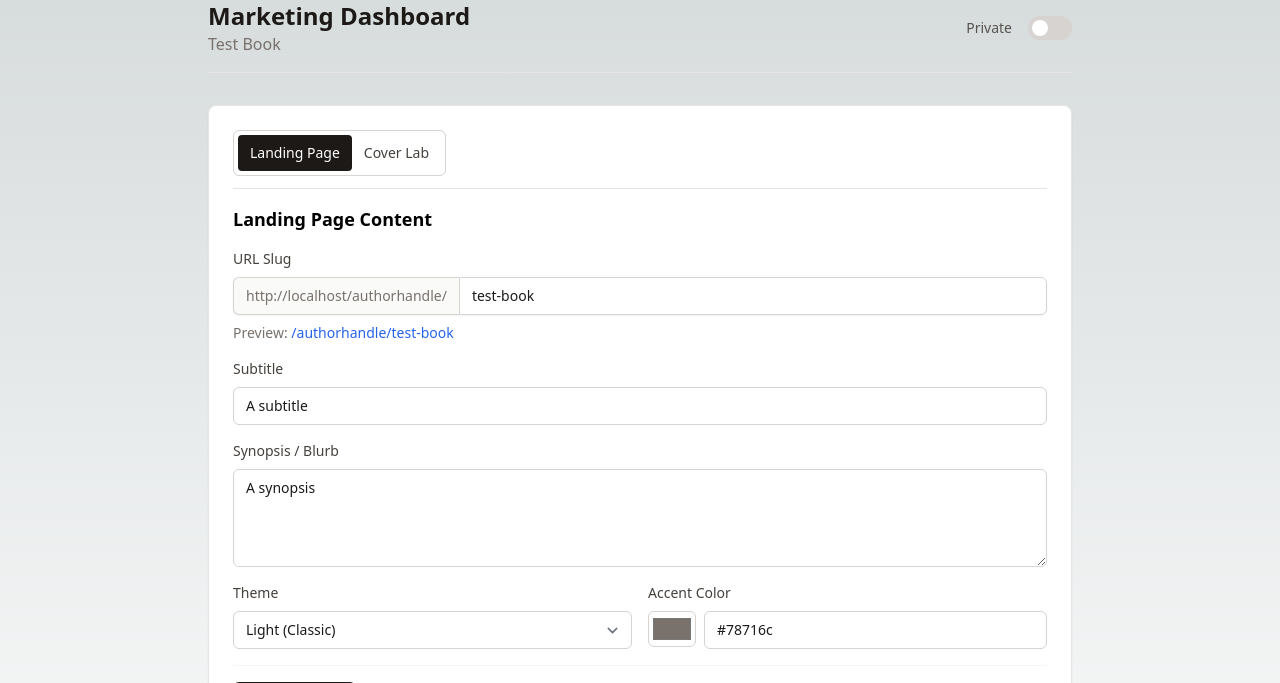
Test: MarketingDashboard › saves changes correctly
Update subtitle
Replace the text in the field with placeholder "A compelling subtitle for your landing page" below "Subtitle" with "New Subtitle": point(640, 406) 233,387 -> 1047,425
(page scrolled)
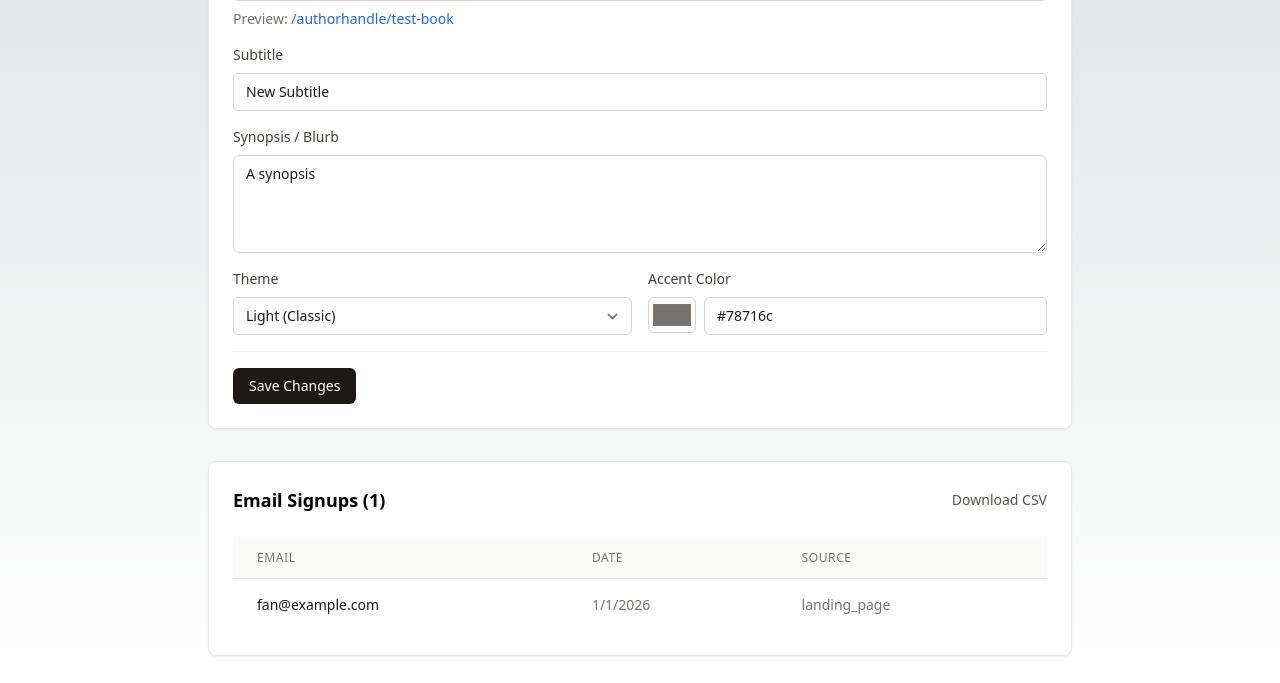
Click save
Click the button "Save Changes": point(295, 386) 233,368 -> 356,404
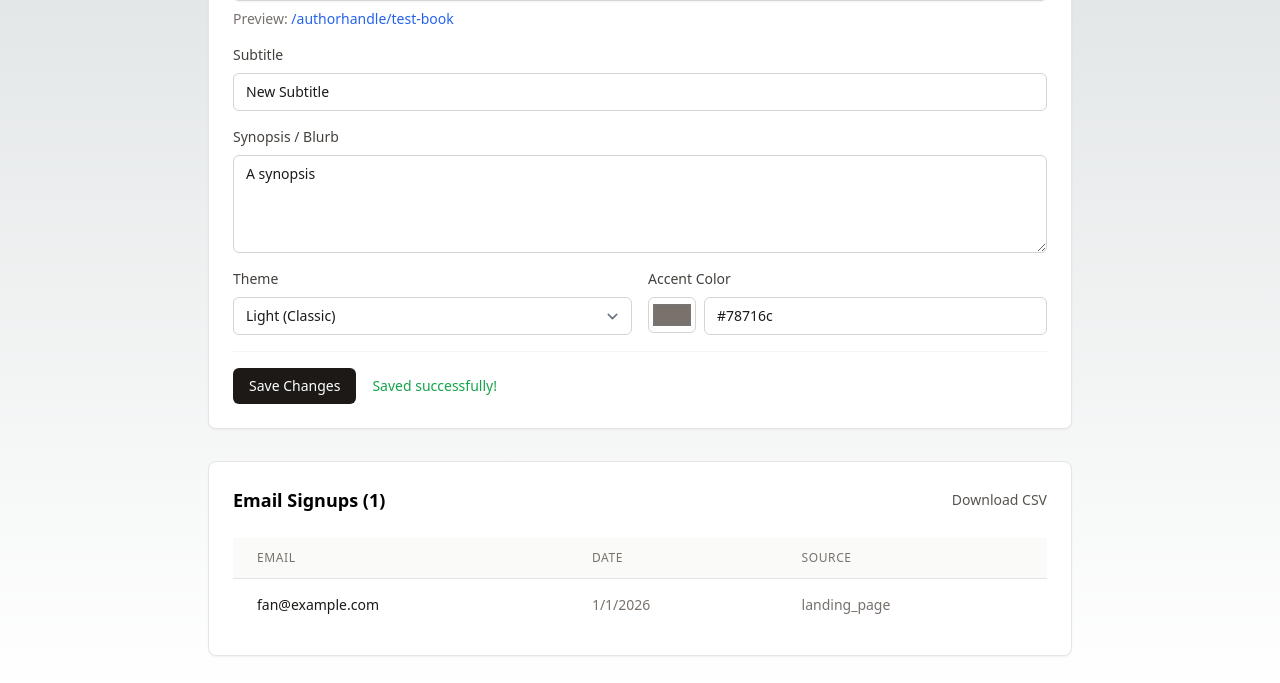
Now the text "Saved successfully!" is shown, box 372,376 -> 497,395
